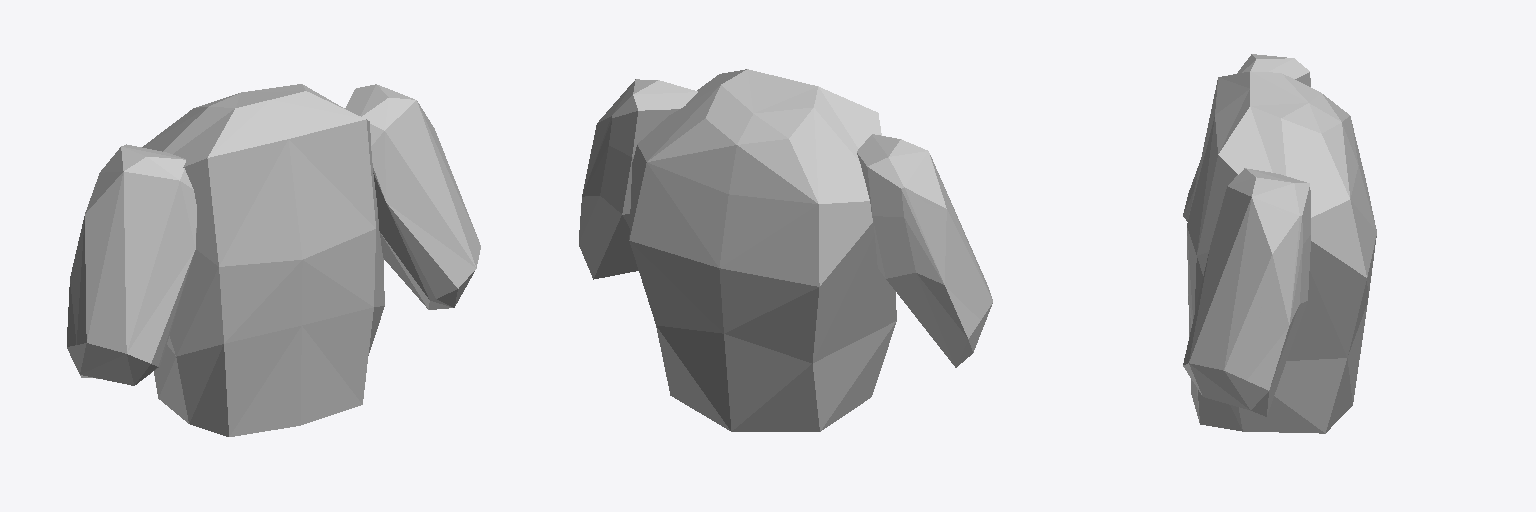
Rendered from dum.obj.
The picture shows the model from 3 angles: view 1: azimuth 30°, elevation 25°; view 2: azimuth 150°, elevation 25°; view 3: azimuth 270°, elevation 25°; orthographic projection.
Visible parts, largest first — view 1: Mesh1 Model, Mesh2 Model, Mesh3 Model; view 2: Mesh1 Model, Mesh2 Model, Mesh3 Model; view 3: Mesh1 Model, Mesh3 Model, Mesh2 Model.
Part boxes in pixels (bbox=[...]): Mesh1 Model: bbox=[142, 84, 384, 436]; Mesh2 Model: bbox=[67, 144, 196, 385]; Mesh3 Model: bbox=[345, 84, 480, 309]; Mesh1 Model: bbox=[629, 69, 896, 431]; Mesh2 Model: bbox=[857, 134, 992, 367]; Mesh3 Model: bbox=[579, 79, 697, 279]; Mesh1 Model: bbox=[1187, 71, 1376, 433]; Mesh3 Model: bbox=[1183, 168, 1310, 416]; Mesh2 Model: bbox=[1183, 54, 1310, 221].
Bounding box in the file's own units: 28.98 × 23.48 × 12.36.